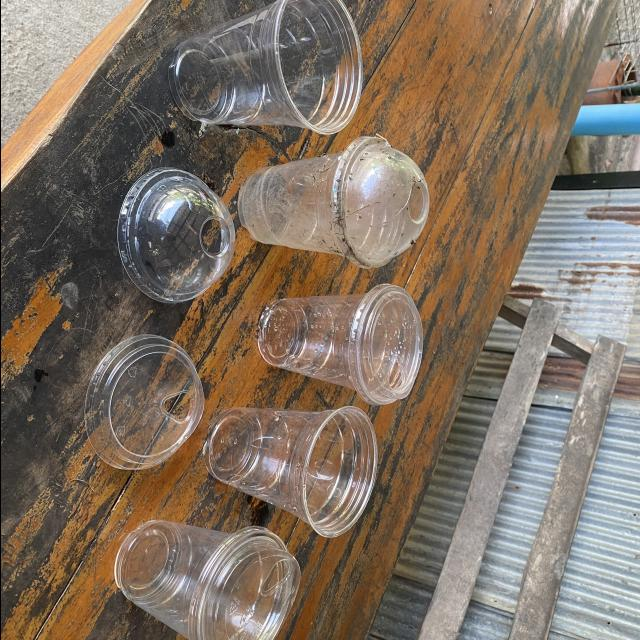plastik: (168, 0, 361, 134), (237, 136, 428, 268), (203, 406, 376, 537), (114, 521, 299, 640), (257, 285, 421, 405), (83, 334, 203, 469), (117, 167, 234, 303)
